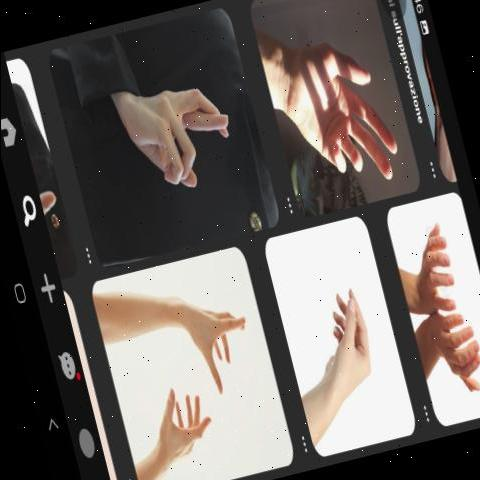Hands: (273, 36, 411, 194), (104, 63, 238, 207), (298, 286, 384, 434), (144, 292, 256, 402), (126, 376, 223, 480), (421, 308, 480, 412), (406, 217, 458, 323)
